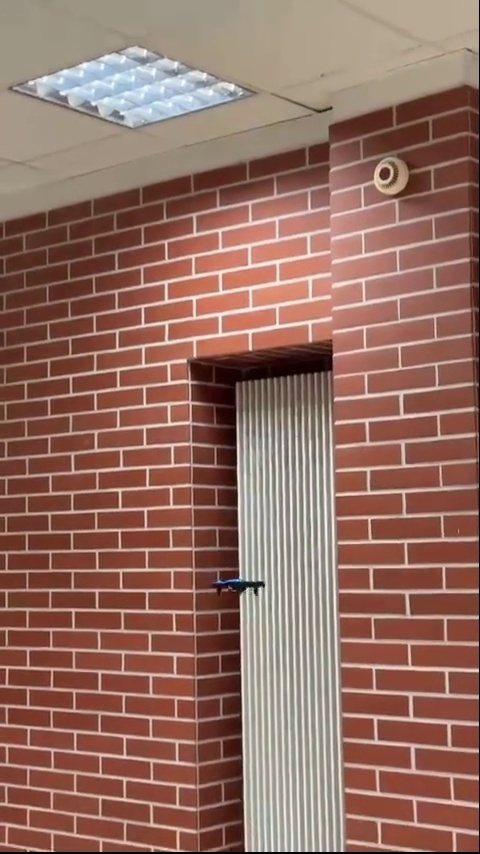drone: (207, 581, 272, 603)
